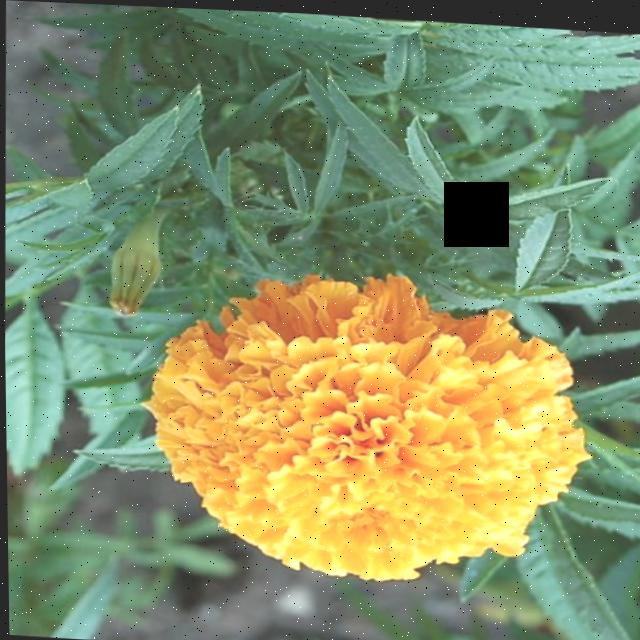marigold: (161, 221, 607, 570)
